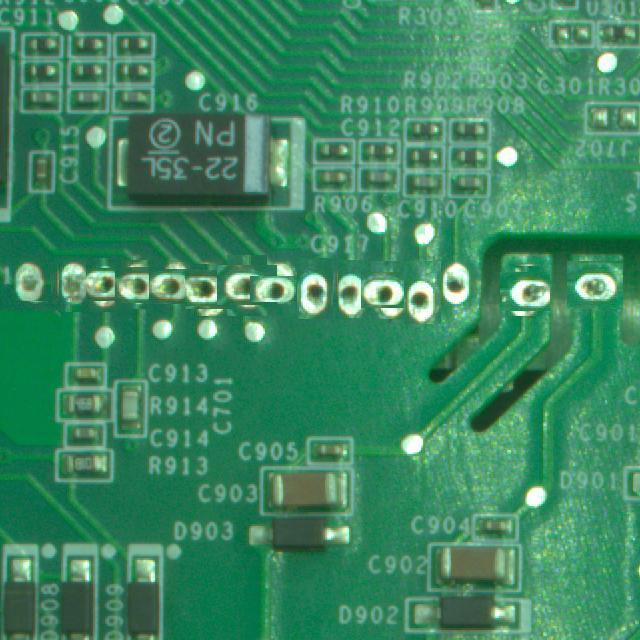lack_of_part: (569, 259, 621, 312), (439, 261, 482, 321), (222, 260, 272, 311), (404, 261, 441, 324), (366, 266, 412, 314), (297, 258, 333, 319), (502, 268, 548, 314), (188, 267, 233, 313), (259, 267, 304, 311), (84, 263, 127, 307), (153, 265, 197, 308), (118, 263, 161, 306), (338, 260, 367, 318), (14, 258, 51, 301), (59, 254, 86, 312)
